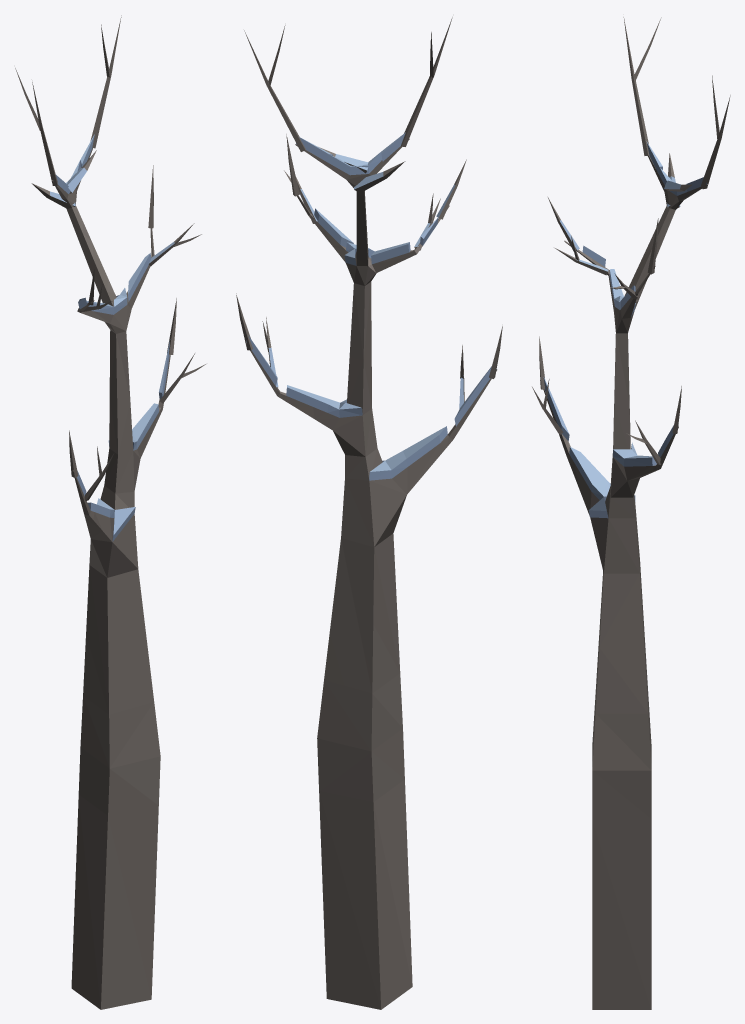
The model's file is Tree_Dead_Stick.glb.
3 views of the same model, side by side, from view 1: azimuth 30°, elevation 25°; view 2: azimuth 150°, elevation 25°; view 3: azimuth 270°, elevation 25° (orthographic). The views are drawn at different scales.
Parts seen in each view (by area): view 1: Tree_Dead_Stick_LOD0; view 2: Tree_Dead_Stick_LOD0; view 3: Tree_Dead_Stick_LOD0.
Part boxes in pixels (x1=…): Tree_Dead_Stick_LOD0: x1=15, y1=15, x2=205, y2=1009; Tree_Dead_Stick_LOD0: x1=236, y1=17, x2=502, y2=1009; Tree_Dead_Stick_LOD0: x1=532, y1=17, x2=730, y2=1009.
Bounding box in the file's own units: 1.34 × 6.61 × 1.27.
